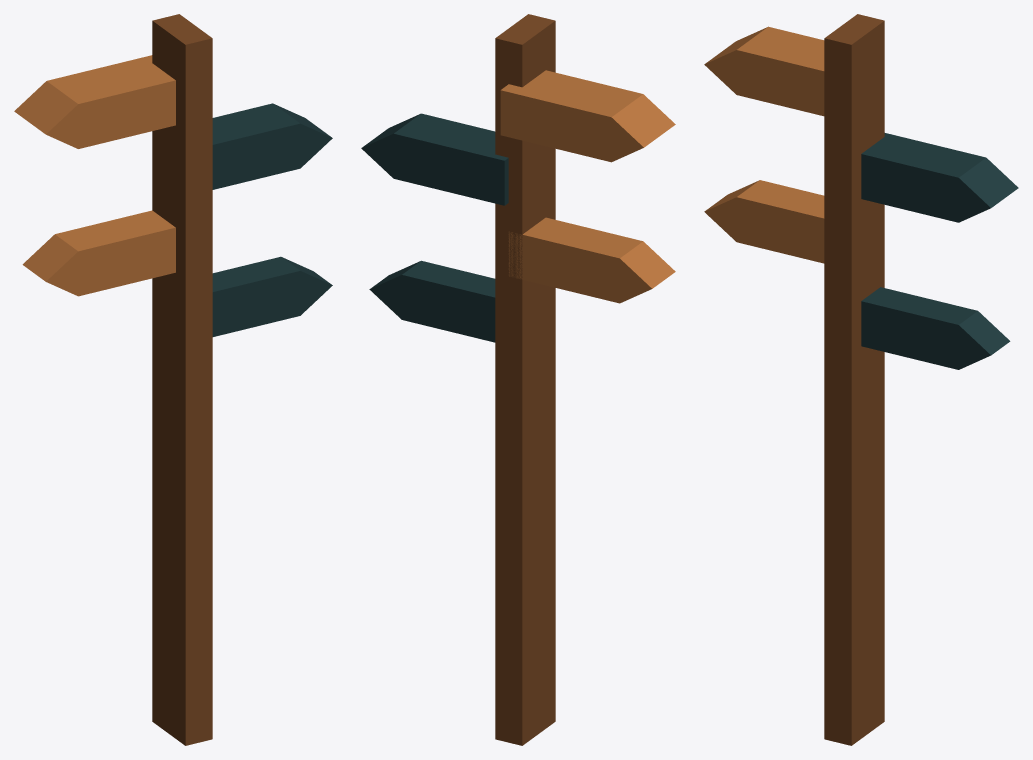
Rendered from signpost_arrows.fbx.
3 views of the same model, side by side, from view 1: azimuth 30°, elevation 25°; view 2: azimuth 150°, elevation 25°; view 3: azimuth 330°, elevation 25° (orthographic).
Parts seen in each view (by area): view 1: signpost_arrows; view 2: signpost_arrows; view 3: signpost_arrows.
Boxes of the visible parts, bbox=[...] form: signpost_arrows: bbox=[14, 14, 332, 745]; signpost_arrows: bbox=[361, 14, 675, 745]; signpost_arrows: bbox=[704, 14, 1018, 745].
Bounding box in the file's own units: 1.2 × 2.8 × 0.3.
